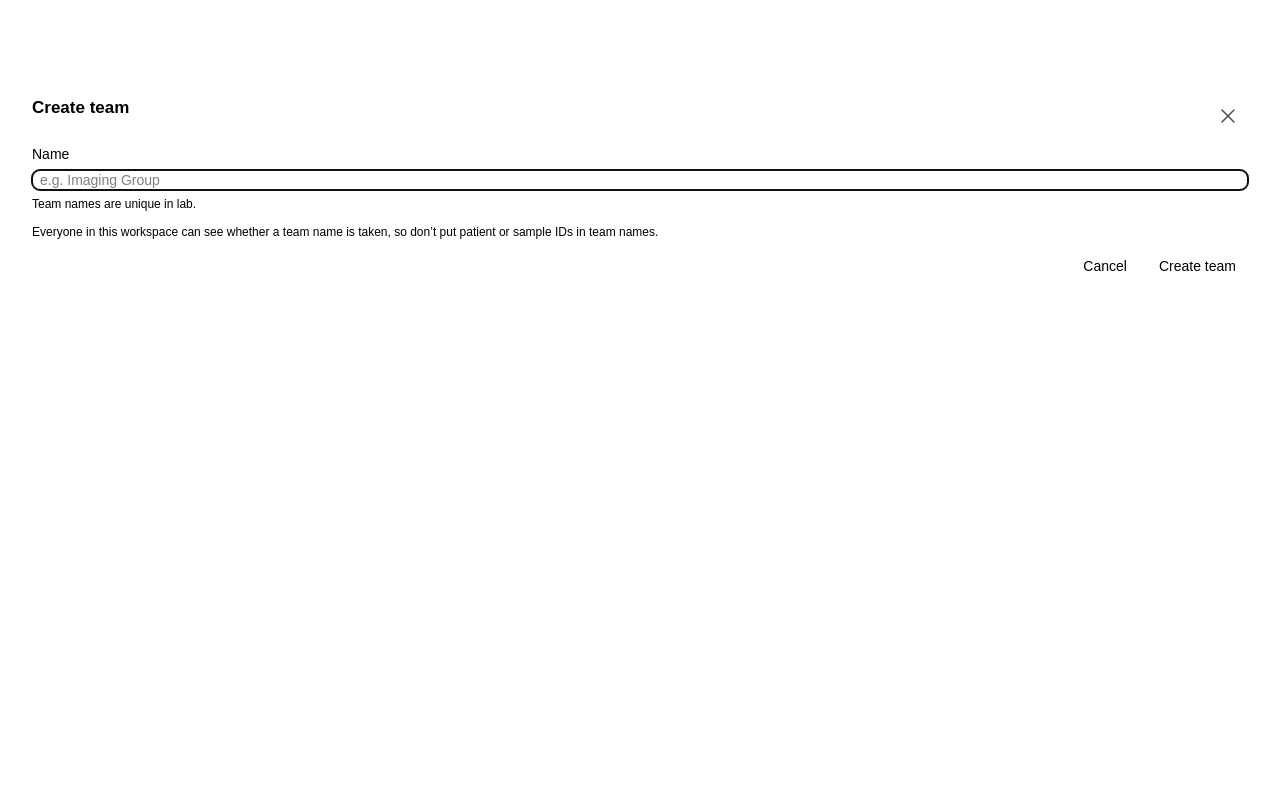
Scenario: CreateTeamDialog › says a rate limit in the broker’s sentence, not on the name field
This screenshot has width=1280, height=800.
Type "Analysis Lab" into the field labelled "Name" at (640, 180), box x1=32 y1=170 x2=1248 y2=190
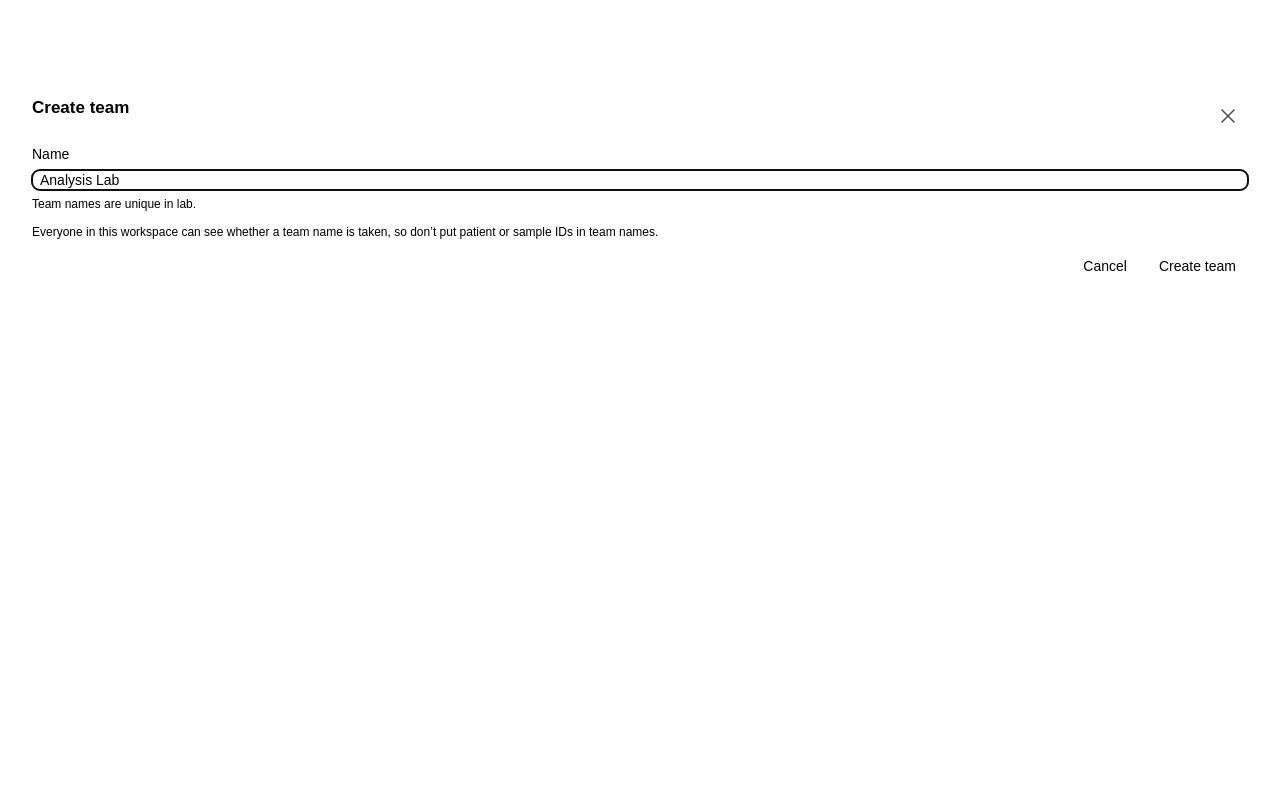
Click the button "Create team" at (1198, 266), box x1=1147 y1=256 x2=1248 y2=276
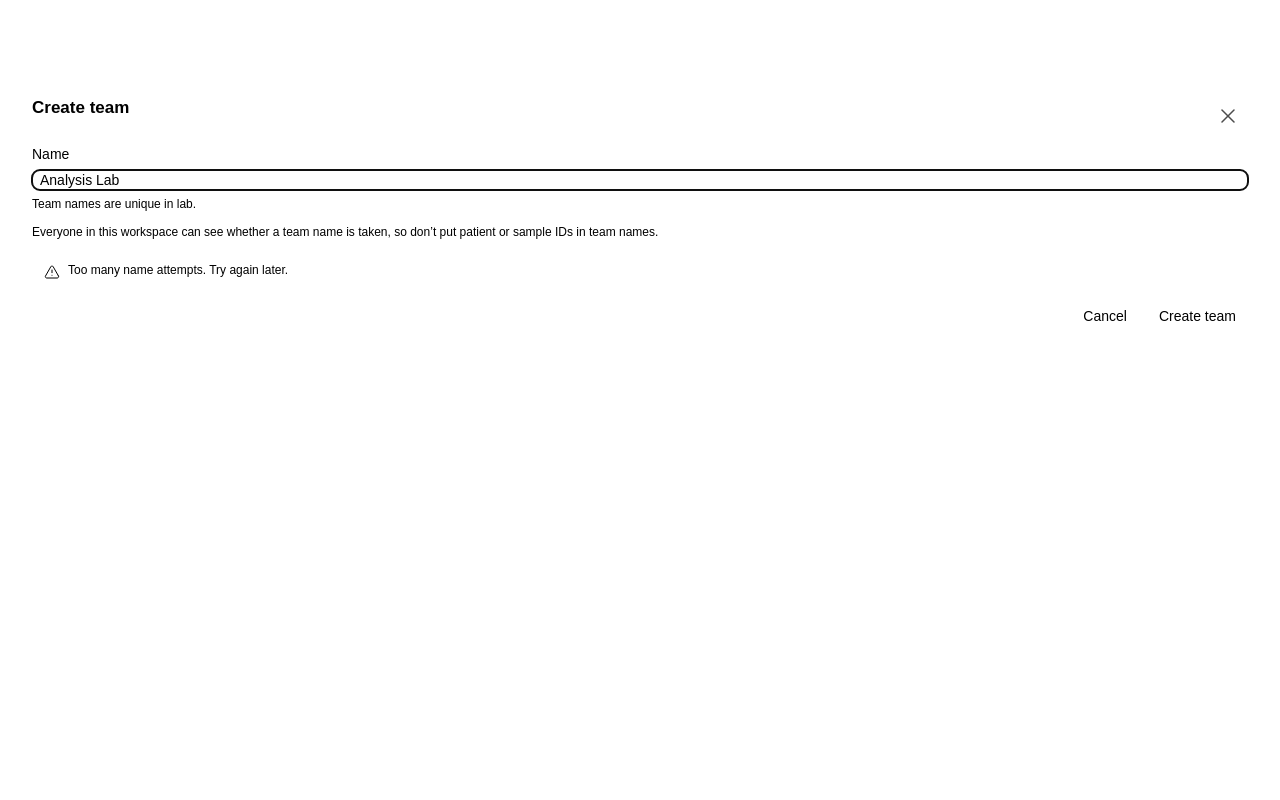
Result: the text "Too many name attempts. Try again later." is shown at x1=68 y1=263 x2=288 y2=277
